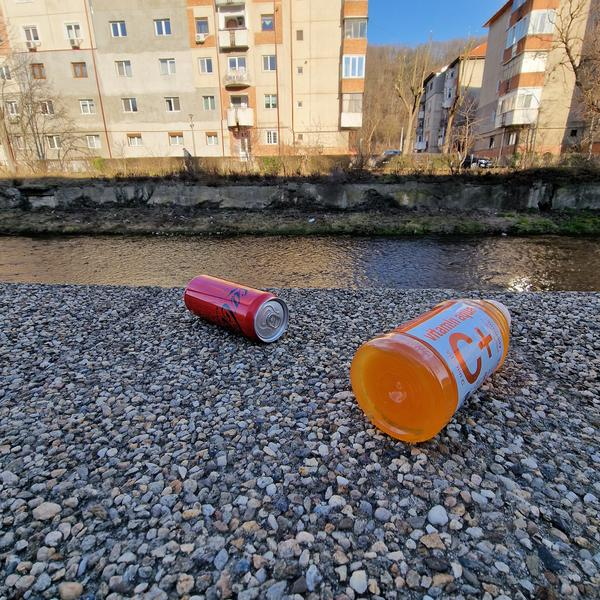can: (176, 267, 296, 346)
plastic_bottle: (331, 259, 545, 464)
